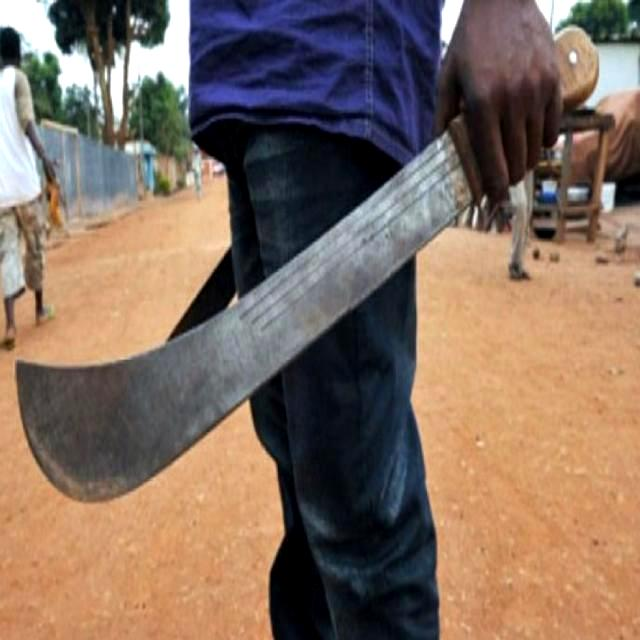long knife: (21, 19, 607, 514)
